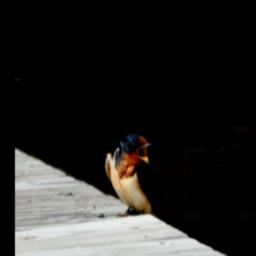Swallow: (104, 130, 161, 216)
